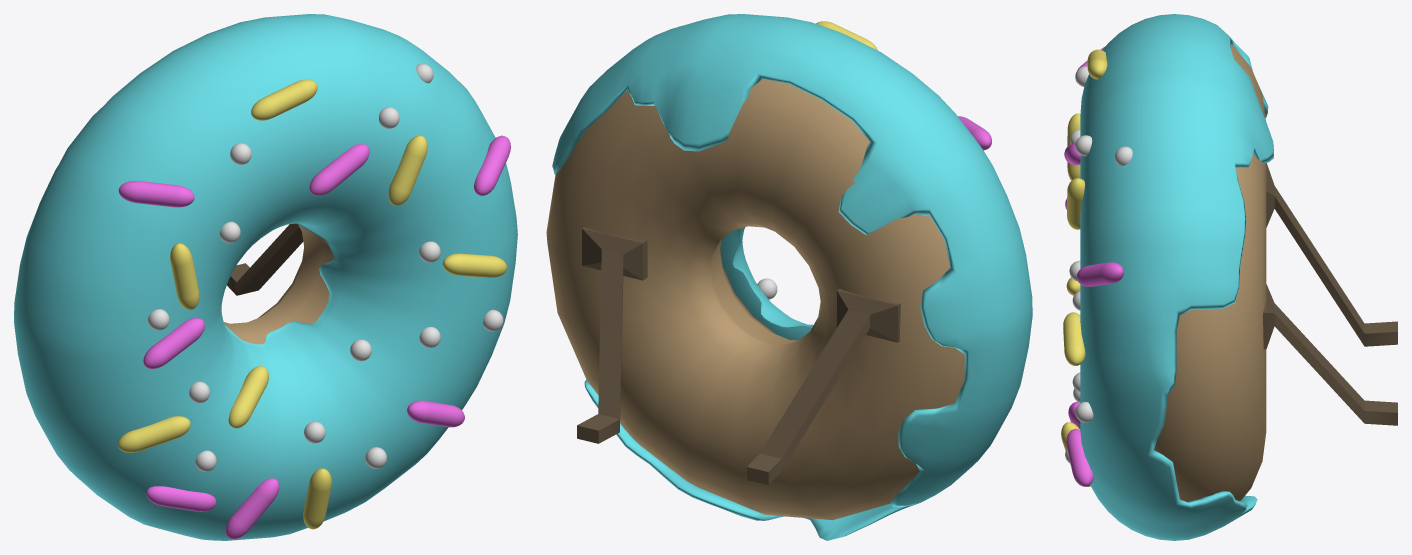
File: Donut!.fbx
3 renders of one model, left to right at view 1: azimuth 30°, elevation 25°; view 2: azimuth 150°, elevation 25°; view 3: azimuth 270°, elevation 25°, orthographic. The views are drawn at different scales.
Parts seen in each view (by area): view 1: polySurface443; view 2: polySurface443; view 3: polySurface443.
Boxes of the visible parts, bbox=[...] form: polySurface443: bbox=[14, 14, 517, 540]; polySurface443: bbox=[546, 14, 1032, 540]; polySurface443: bbox=[1061, 14, 1397, 540].
Size of the model in its own units: 5.74 by 5.72 by 3.65.
